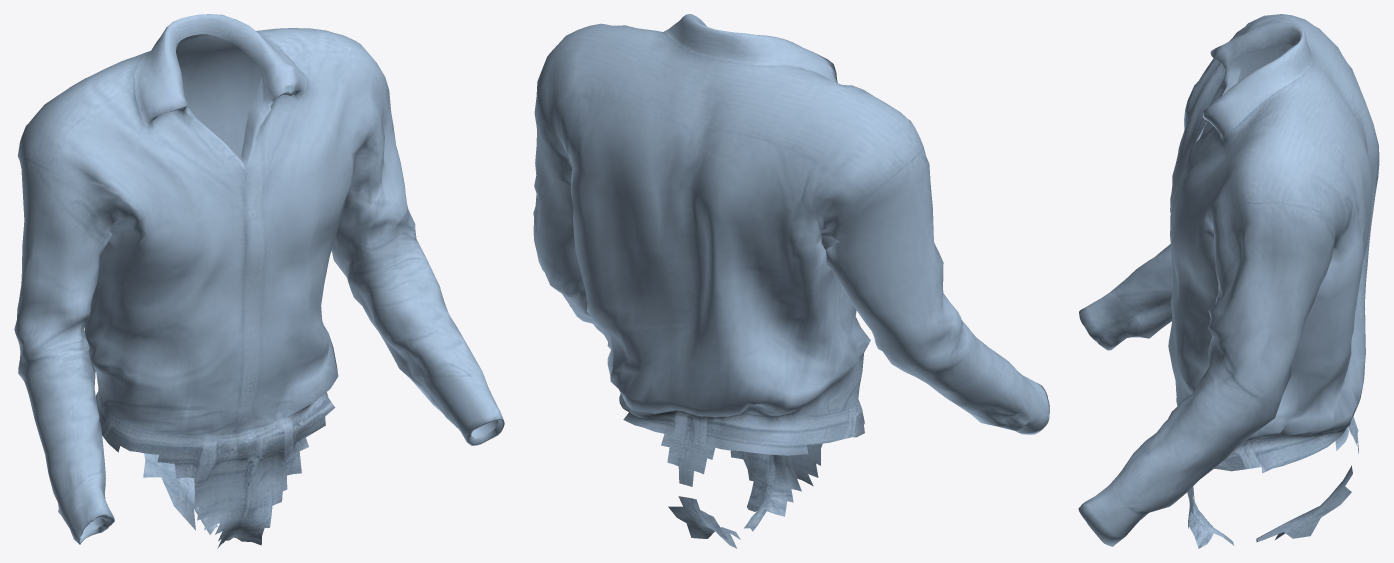
The model's file is shirt-lightblue.glb.
3 views of the same model, side by side, from view 1: azimuth 30°, elevation 25°; view 2: azimuth 150°, elevation 25°; view 3: azimuth 270°, elevation 25° (orthographic). The views are drawn at different scales.
Visible parts, largest first — view 1: shirt-white; view 2: shirt-white; view 3: shirt-white.
Part boxes in pixels (x1,y1,x2,y2): shirt-white: (14,14,504,548); shirt-white: (533,14,1049,548); shirt-white: (1078,14,1379,548).
Size of the model in its own units: 0.6918 by 0.7764 by 0.4152.
1 material, 1 textured.
